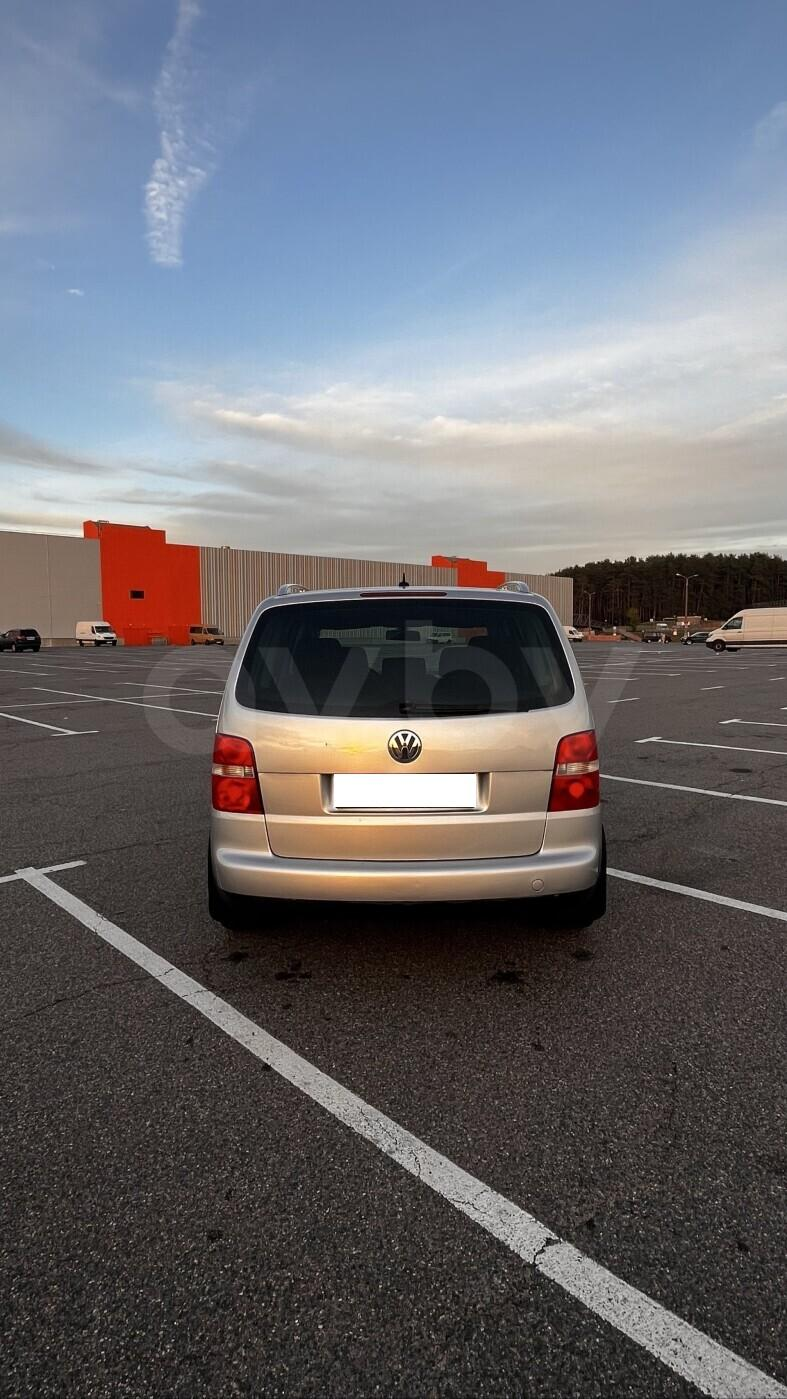Touran_2003-2006: (198, 588, 612, 930)
